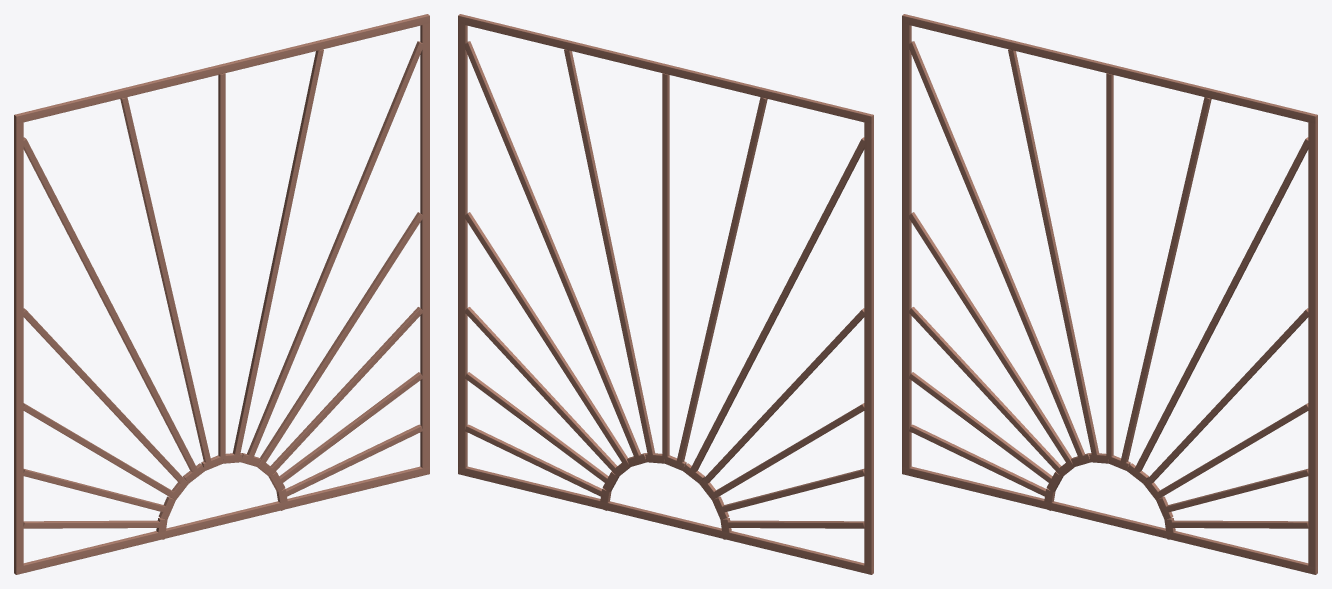
Rendered from window-grille-sunburst.glb.
The picture shows the model from 3 angles, left to right: view 1: azimuth 30°, elevation 25°; view 2: azimuth 150°, elevation 25°; view 3: azimuth 330°, elevation 25°; orthographic projection.
Parts seen in each view (by area): view 1: window-grille-sunburst; view 2: window-grille-sunburst; view 3: window-grille-sunburst.
Boxes of the visible parts, left/top/right/bottom form: window-grille-sunburst: left=14, top=14, right=429, bottom=574; window-grille-sunburst: left=458, top=14, right=873, bottom=574; window-grille-sunburst: left=902, top=14, right=1317, bottom=574.
Bounding box in the file's own units: 1.6 × 1.7 × 0.016.
